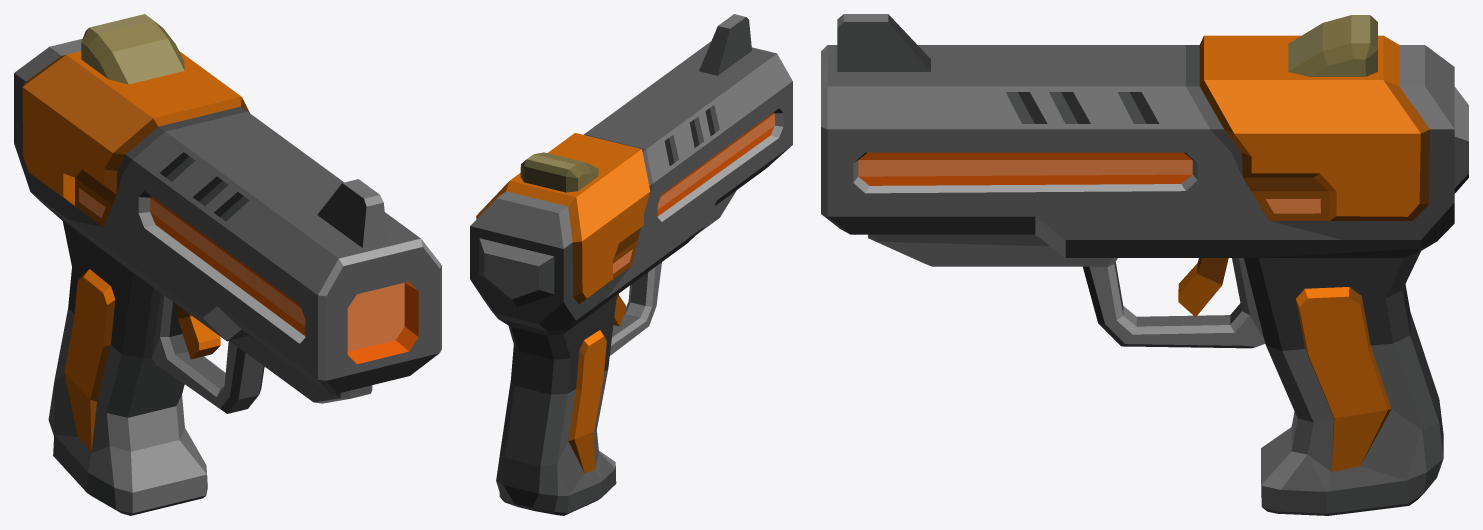
The model's file is Cosmic_Retro_Blaster_3_4.fbx.
The picture shows the model from 3 angles, left to right: view 1: azimuth 30°, elevation 25°; view 2: azimuth 150°, elevation 25°; view 3: azimuth 270°, elevation 25°; orthographic projection. The views are drawn at different scales.
Visible parts, largest first — view 1: Cosmic_Retro_Blaster_3_4, Cosmic_Retro_Blaster_Trigger_3_4; view 2: Cosmic_Retro_Blaster_3_4; view 3: Cosmic_Retro_Blaster_3_4, Cosmic_Retro_Blaster_Trigger_3_4.
Boxes of the visible parts, box(x1,y1,x2,y2) form: Cosmic_Retro_Blaster_3_4: box(14, 14, 441, 515); Cosmic_Retro_Blaster_Trigger_3_4: box(176, 304, 220, 359); Cosmic_Retro_Blaster_3_4: box(470, 14, 792, 515); Cosmic_Retro_Blaster_3_4: box(821, 14, 1468, 515); Cosmic_Retro_Blaster_Trigger_3_4: box(1178, 258, 1228, 317).
Size of the model in its own units: 0.1 by 0.3143 by 0.3883.
